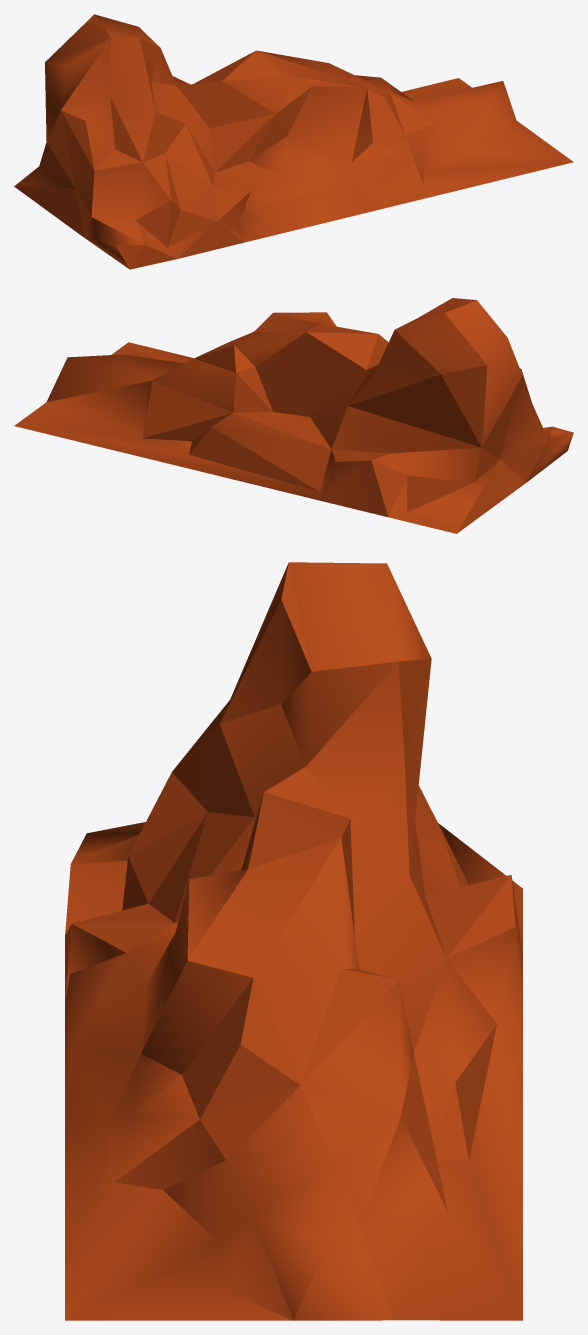
File: Mountain_desert_007.glb
3 renders of one model, top to bottom at view 1: azimuth 30°, elevation 25°; view 2: azimuth 150°, elevation 25°; view 3: azimuth 270°, elevation 25°, orthographic. The views are drawn at different scales.
Visible parts, largest first — view 1: Mountain_desert_007; view 2: Mountain_desert_007; view 3: Mountain_desert_007.
Boxes of the visible parts, <box> form: Mountain_desert_007: <box>14,14,573,269</box>; Mountain_desert_007: <box>14,298,573,533</box>; Mountain_desert_007: <box>65,562,522,1320</box>.
Size of the model in its own units: 52.43 by 20.53 by 23.
1 material, 1 textured.
